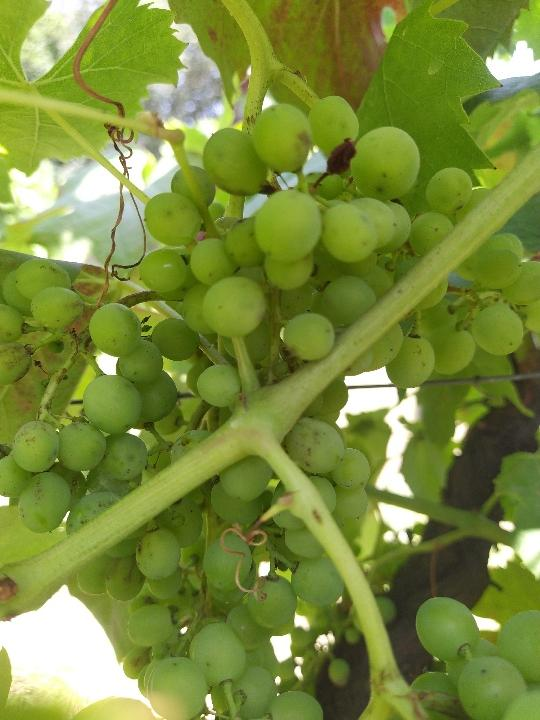grape: (11, 95, 520, 692)
